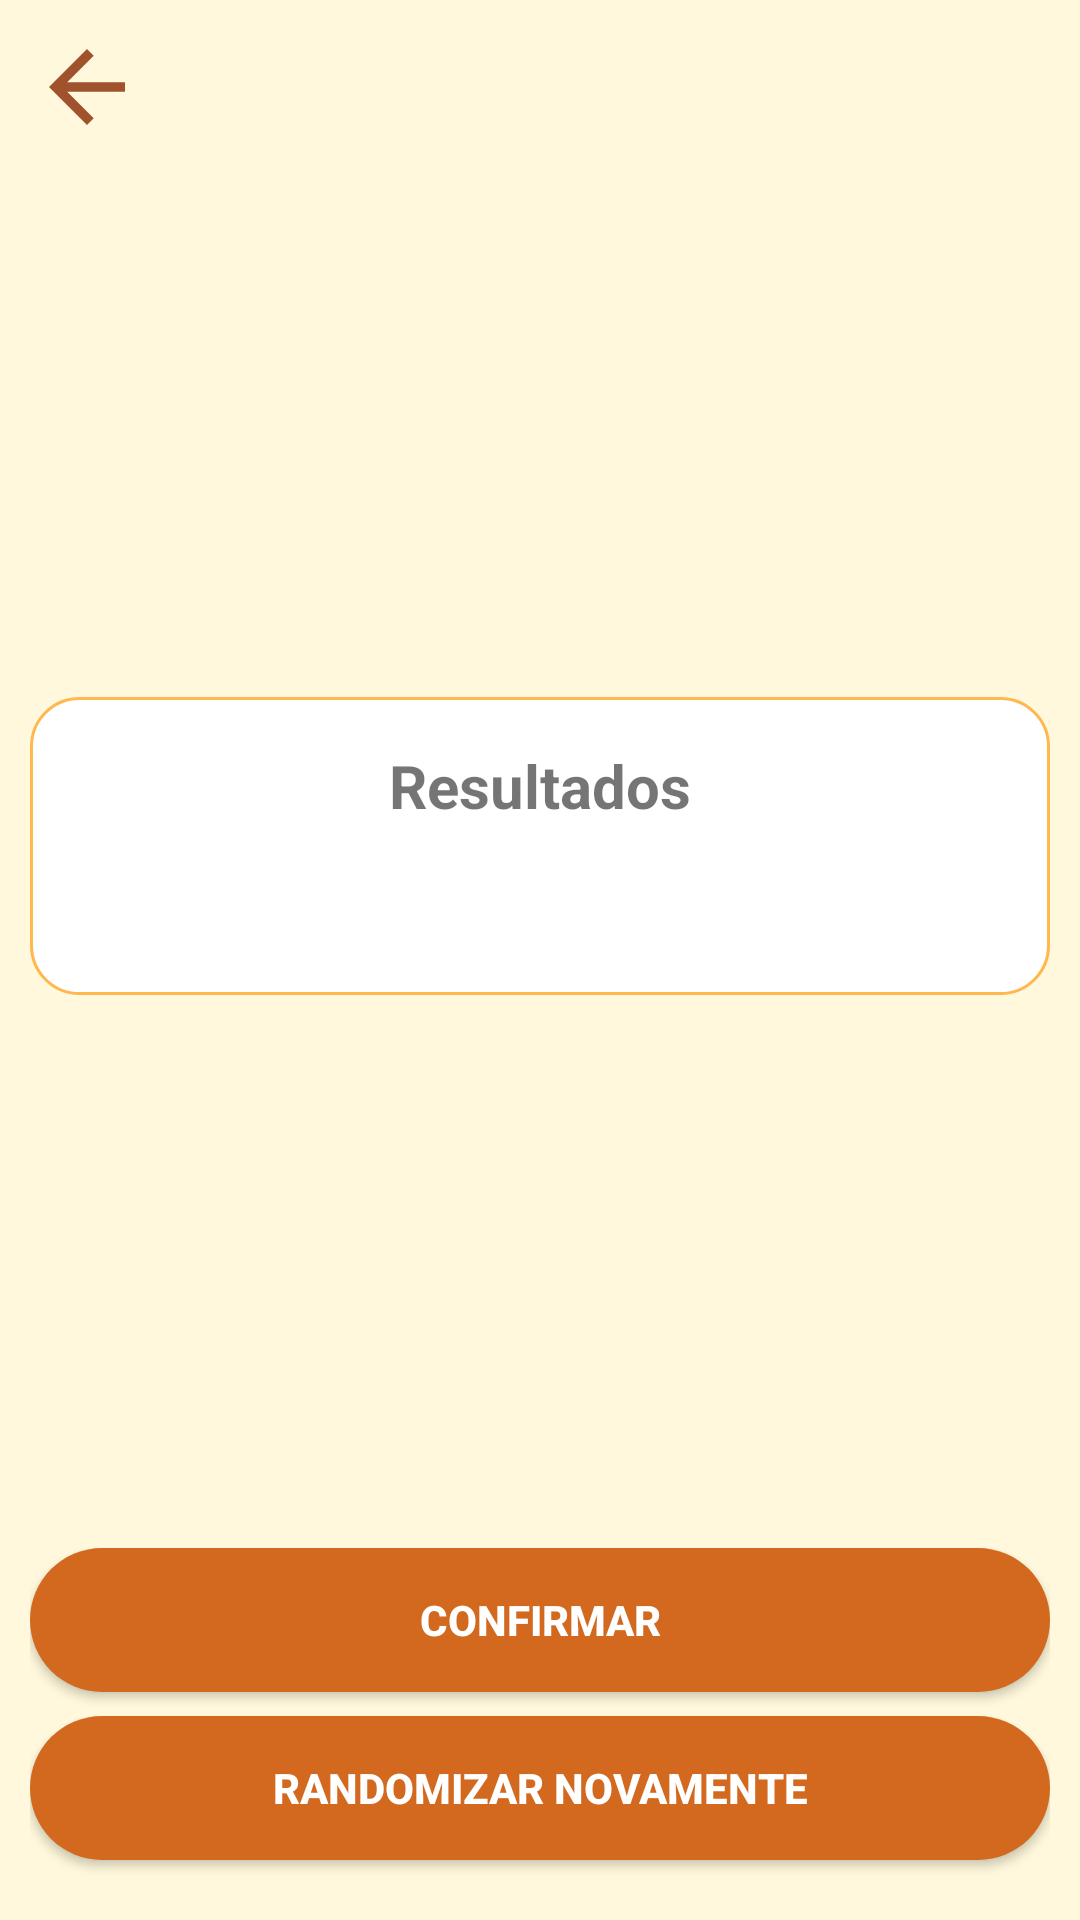

Point at icon controls on the screen. Image size 1080w x 1920h, points as point (x, y).
Voltar: point (87, 87)
